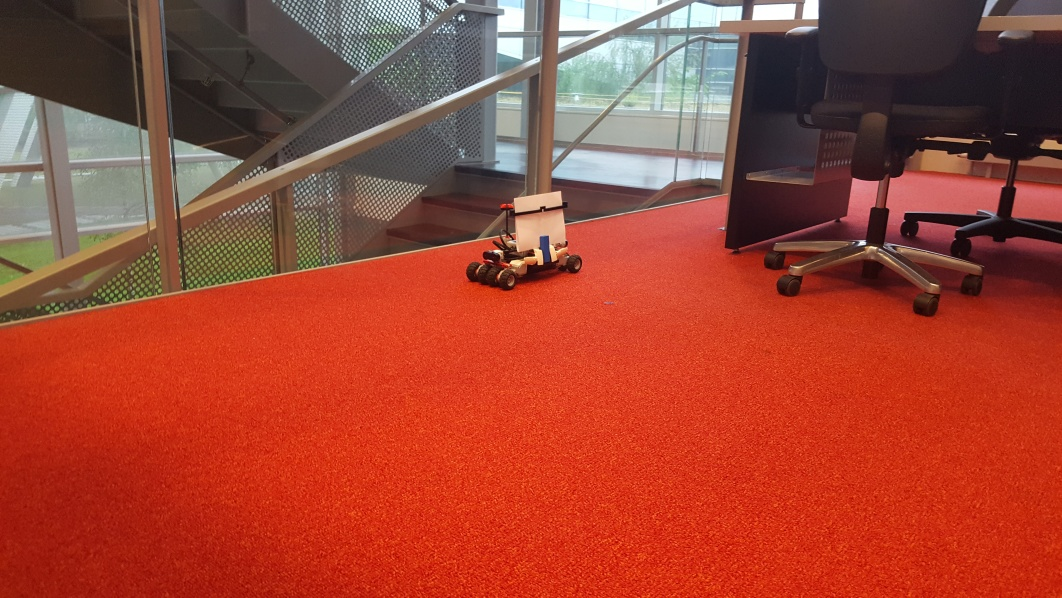car: (467, 189, 583, 290)
